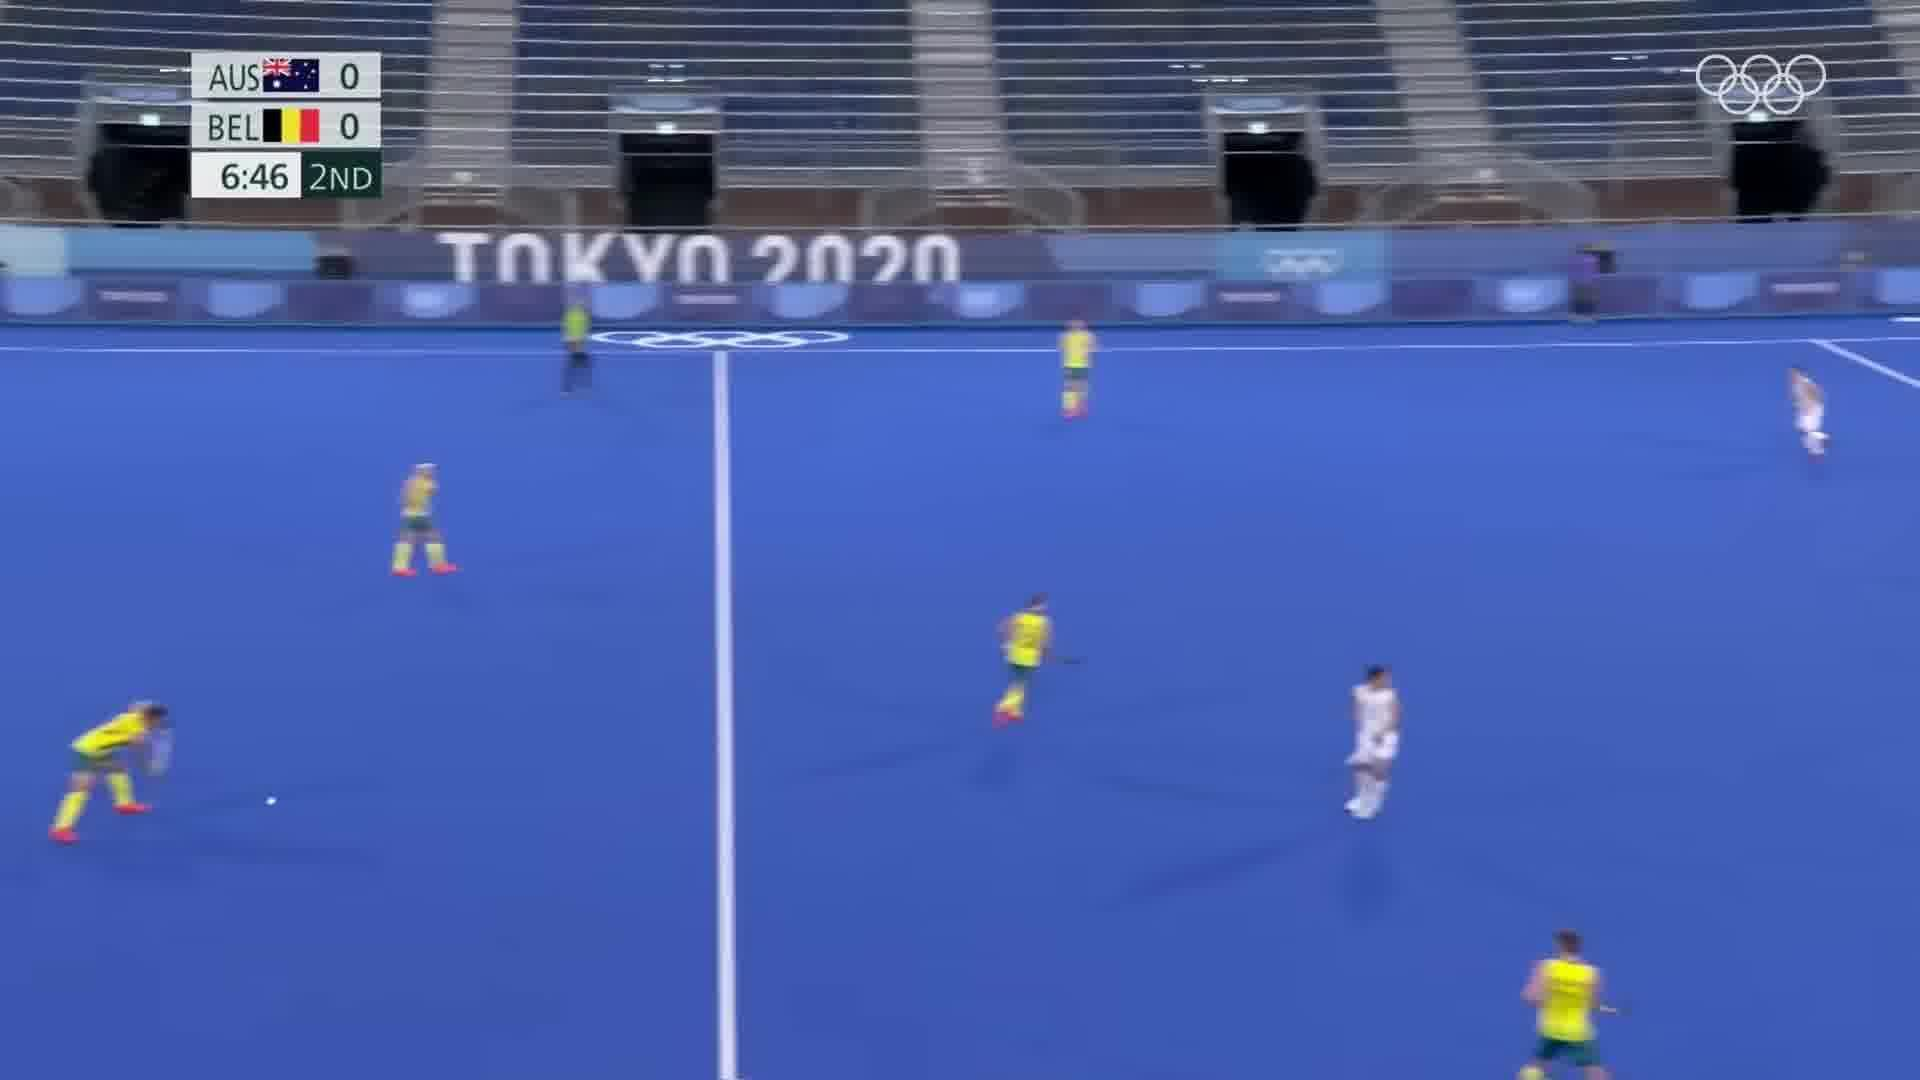ball: (251, 790, 287, 811)
